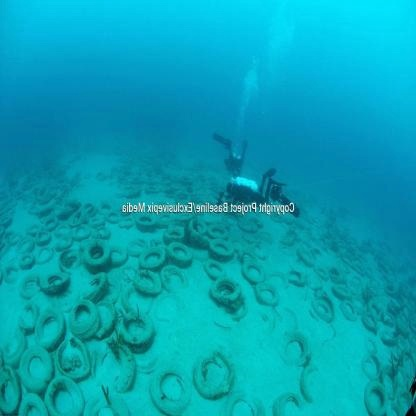tire: (92, 338, 134, 412), (191, 345, 234, 399), (146, 365, 193, 412), (16, 343, 62, 389), (43, 375, 86, 416), (29, 308, 66, 351), (274, 326, 311, 366), (118, 311, 160, 344), (81, 393, 139, 416), (66, 302, 102, 338), (212, 278, 245, 314), (270, 380, 302, 416), (161, 262, 196, 294), (222, 390, 264, 416), (3, 359, 22, 416), (296, 358, 320, 402), (81, 241, 115, 271), (132, 270, 168, 298), (13, 294, 39, 332), (360, 381, 387, 412), (18, 392, 48, 416), (249, 280, 278, 303), (127, 238, 156, 261), (3, 327, 23, 360), (208, 239, 240, 259), (141, 248, 167, 272), (242, 259, 269, 282), (106, 245, 132, 268), (168, 243, 194, 262), (360, 358, 378, 385), (313, 299, 333, 322), (64, 250, 84, 270), (207, 257, 222, 282), (340, 294, 356, 316), (289, 268, 304, 288)
